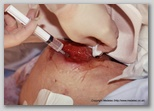alginato_de_calcio_e_gaze: (45, 29, 105, 67)
colagenase_e_gaze: (49, 31, 97, 64)
hidrofibra_com_prata_e_gaze: (38, 31, 110, 67)
papaina_4_a_6_concetracao_e_gaze: (46, 33, 106, 67)
